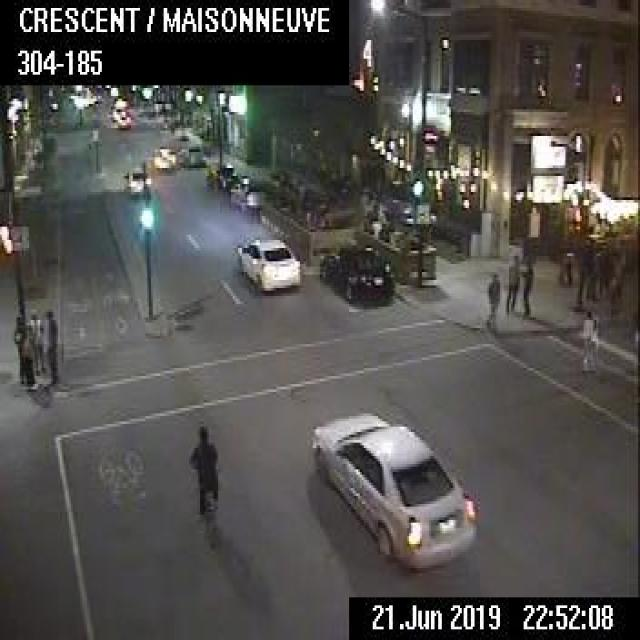pedestrian: (186, 421, 218, 515), (28, 305, 45, 373), (44, 307, 58, 384), (19, 320, 35, 387), (580, 307, 596, 372), (583, 242, 598, 300), (504, 252, 518, 313), (484, 271, 499, 325), (519, 258, 532, 314)
vehicle: (309, 408, 477, 568), (316, 245, 393, 304), (236, 234, 300, 290), (229, 175, 266, 211), (207, 160, 235, 189), (122, 166, 150, 193), (152, 144, 176, 170), (181, 142, 203, 164)
